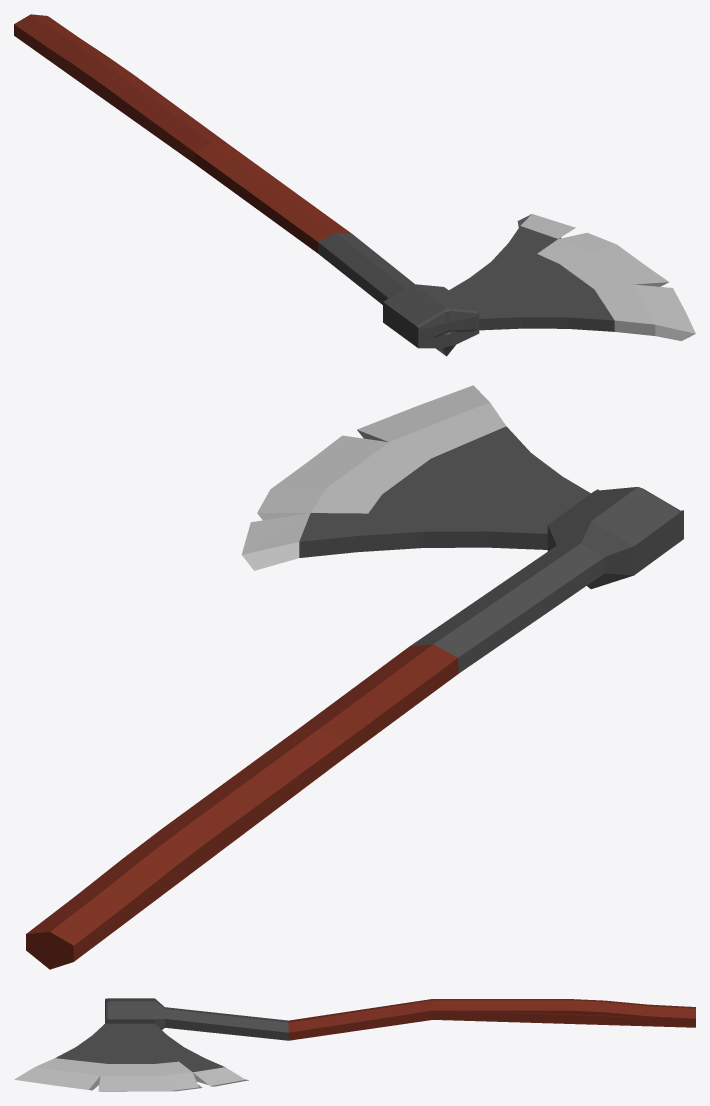
Rendered from Axe.fbx.
3 renders of one model, top to bottom at view 1: azimuth 30°, elevation 25°; view 2: azimuth 150°, elevation 25°; view 3: azimuth 270°, elevation 25°, orthographic. The views are drawn at different scales.
Visible parts, largest first — view 1: Plane; view 2: Plane; view 3: Plane.
Part boxes in pixels (left/top/right/bottom): Plane: left=14, top=14, right=695, bottom=356; Plane: left=26, top=385, right=683, bottom=969; Plane: left=14, top=998, right=695, bottom=1091.
Size of the model in its own units: 807 by 151 by 2735.
